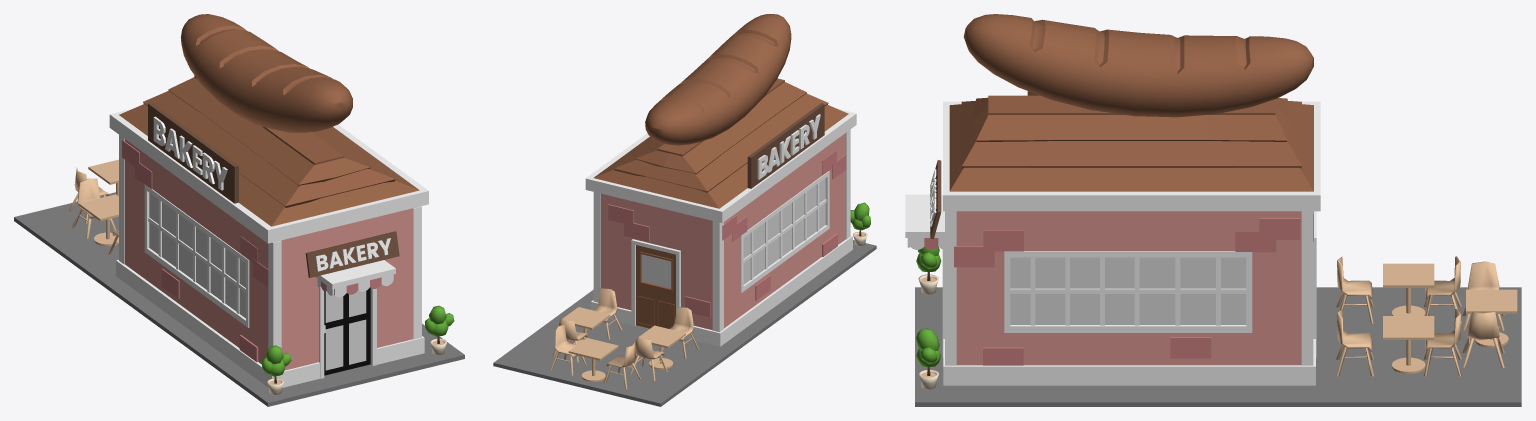
The model's file is Bakery.fbx.
The picture shows the model from 3 angles, left to right: view 1: azimuth 30°, elevation 25°; view 2: azimuth 150°, elevation 25°; view 3: azimuth 270°, elevation 25°; orthographic projection. The views are drawn at different scales.
Parts seen in each view (by area): view 1: Cube.686, Cube.705, Cube.698, Cube.762, Plane.042, Cube.761, Cube.843, Text.005, Plane.249, Cube.756, Circle.237, Circle.027 (+4 smaller); view 2: Cube.686, Cube.705, Plane.042, Cube.698, Cube.762, Plane.090, Cube.843, Cube.756, Circle.027, Cube.089, Cube.761, Text.005 (+3 smaller); view 3: Cube.698, Cube.705, Cube.686, Plane.042, Cube.762, Cube.844, Plane.090, Cube.756, Circle.027, Circle.237, Cube.707.
Boxes of the visible parts, x1,y1,x2,y2 form: Cube.686: (124, 139, 419, 370); Cube.705: (109, 108, 428, 387); Cube.698: (119, 75, 419, 226); Cube.762: (180, 14, 352, 132); Plane.042: (14, 192, 464, 406); Cube.761: (148, 103, 399, 277); Cube.843: (149, 193, 245, 318); Text.005: (153, 116, 390, 271); Plane.249: (325, 290, 366, 370); Cube.756: (122, 140, 268, 362); Circle.237: (262, 305, 454, 395); Circle.027: (78, 159, 118, 246); Cube.686: (601, 133, 845, 329); Cube.705: (585, 109, 856, 346); Plane.042: (493, 240, 876, 406); Cube.698: (594, 78, 848, 208); Cube.762: (645, 14, 791, 145); Plane.090: (549, 288, 698, 388); Cube.843: (743, 178, 825, 284); Cube.756: (608, 150, 846, 317); Circle.027: (562, 307, 685, 381); Cube.089: (636, 245, 675, 328); Cube.761: (747, 103, 824, 188); Text.005: (757, 114, 820, 179); Cube.698: (949, 95, 1313, 191); Cube.705: (942, 101, 1320, 385); Cube.686: (956, 211, 1301, 365); Plane.042: (915, 287, 1521, 406); Cube.762: (963, 14, 1313, 117); Cube.844: (1010, 257, 1246, 324); Plane.090: (1336, 256, 1504, 376); Cube.756: (954, 211, 1313, 365); Circle.027: (1383, 263, 1517, 373); Circle.237: (916, 247, 941, 389); Cube.707: (905, 194, 944, 237).
Size of the model in its own units: 0.7413 by 0.9883 by 1.68.
